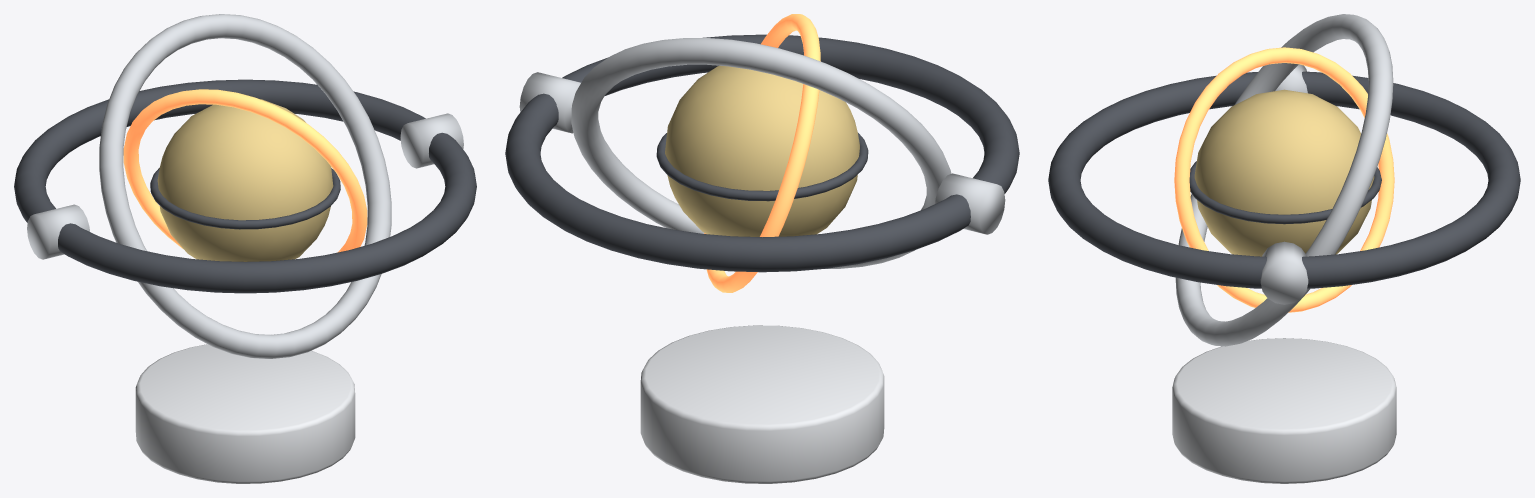
Rendered from aether-gimbal.glb.
The picture shows the model from 3 angles, left to right: view 1: azimuth 30°, elevation 25°; view 2: azimuth 150°, elevation 25°; view 3: azimuth 270°, elevation 25°; orthographic projection. The views are drawn at different scales.
Visible parts, largest first — view 1: part_01_chassis, part_05_bayonet_mount, part_03_transducer_core, part_02_capsule_guard, part_04_rotary_gain; view 2: part_01_chassis, part_05_bayonet_mount, part_03_transducer_core, part_02_capsule_guard, part_04_rotary_gain; view 3: part_01_chassis, part_05_bayonet_mount, part_03_transducer_core, part_02_capsule_guard, part_04_rotary_gain.
Part boxes in pixels (x1,y1,x2,y2): part_01_chassis: [14, 79, 476, 293]; part_05_bayonet_mount: [135, 344, 355, 483]; part_03_transducer_core: [150, 99, 340, 261]; part_02_capsule_guard: [99, 14, 391, 358]; part_04_rotary_gain: [123, 89, 367, 252]; part_01_chassis: [505, 34, 1019, 272]; part_05_bayonet_mount: [640, 325, 884, 483]; part_03_transducer_core: [656, 65, 868, 236]; part_02_capsule_guard: [571, 38, 951, 268]; part_04_rotary_gain: [704, 14, 820, 292]; part_01_chassis: [1048, 64, 1520, 304]; part_05_bayonet_mount: [1172, 338, 1396, 483]; part_03_transducer_core: [1189, 89, 1381, 256]; part_02_capsule_guard: [1175, 14, 1393, 346]; part_04_rotary_gain: [1174, 47, 1394, 312].
Bounding box in the file's own units: 2.26 × 2.03 × 2.19.
